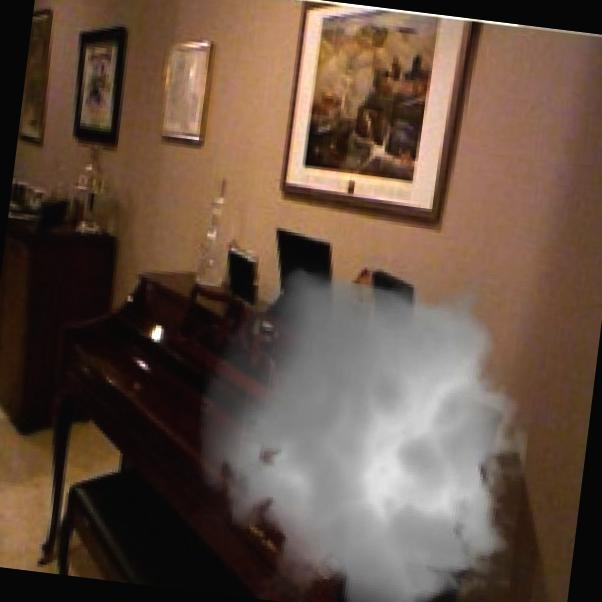smoke: (167, 236, 562, 602)
